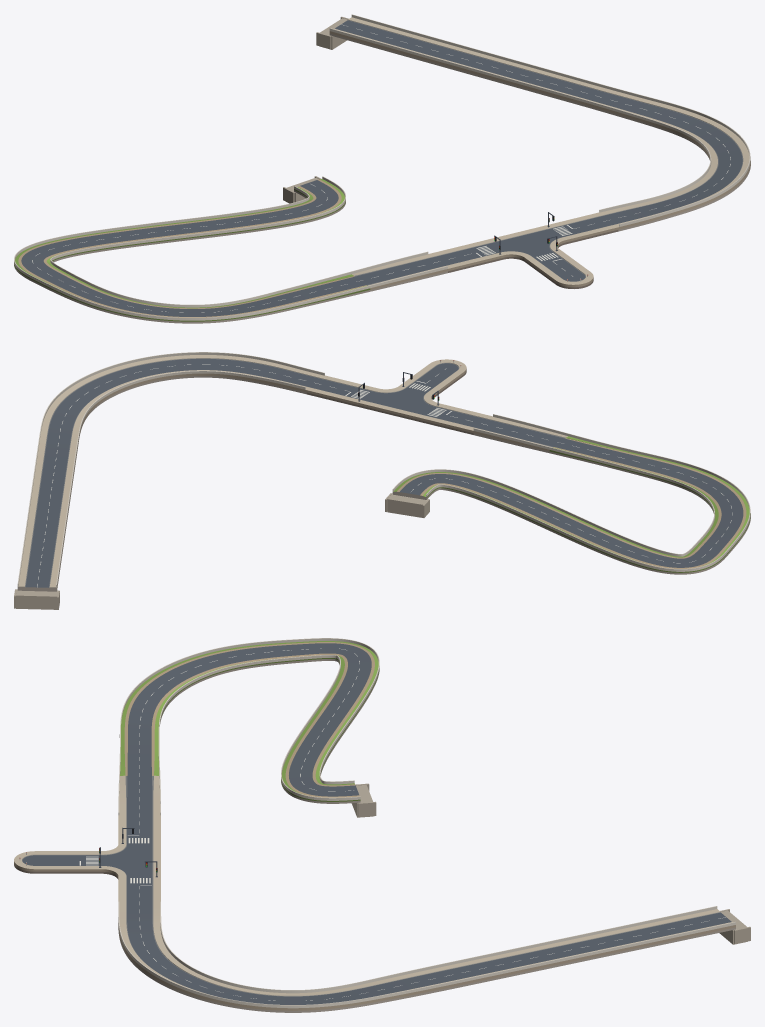
The model's file is rkit_r3_a1_assembly.glb.
3 views of the same model, one above another, from view 1: azimuth 30°, elevation 25°; view 2: azimuth 150°, elevation 25°; view 3: azimuth 270°, elevation 25° (orthographic). The views are drawn at different scales.
Parts seen in each view (by area): view 1: RKIT_route_M+J, RKIT_route_M, RKIT_parapet_M+J, RKIT_parapet_M, RKIT_junction_J_plate, RKIT_route_J.arm2; view 2: RKIT_route_M+J, RKIT_route_M, RKIT_parapet_M+J, RKIT_parapet_M, RKIT_junction_J_plate, A1_abutment_otown, A1_abutment_pyramide, RKIT_route_J.arm2, RKIT_kerb_J_kerb_arm1_arm0; view 3: RKIT_route_M+J, RKIT_route_M, RKIT_parapet_M, RKIT_parapet_M+J, RKIT_junction_J_plate, RKIT_route_J.arm2.
Boxes of the visible parts, bbox=[...] form: RKIT_route_M+J: bbox=[14, 179, 485, 323]; RKIT_route_M: bbox=[329, 17, 750, 239]; RKIT_parapet_M+J: bbox=[14, 176, 447, 320]; RKIT_parapet_M: bbox=[329, 14, 750, 226]; RKIT_junction_J_plate: bbox=[470, 225, 578, 263]; RKIT_route_J.arm2: bbox=[535, 257, 590, 284]; RKIT_route_M+J: bbox=[392, 407, 750, 574]; RKIT_route_M: bbox=[17, 355, 359, 591]; RKIT_parapet_M+J: bbox=[392, 414, 750, 571]; RKIT_parapet_M: bbox=[17, 352, 324, 587]; RKIT_junction_J_plate: bbox=[346, 381, 451, 419]; A1_abutment_otown: bbox=[14, 589, 59, 609]; A1_abutment_pyramide: bbox=[385, 493, 429, 517]; RKIT_route_J.arm2: bbox=[409, 363, 463, 390]; RKIT_kerb_J_kerb_arm1_arm0: bbox=[341, 396, 439, 425]; RKIT_route_M+J: bbox=[118, 641, 379, 835]; RKIT_route_M: bbox=[118, 885, 735, 1012]; RKIT_parapet_M: bbox=[118, 901, 735, 1008]; RKIT_parapet_M+J: bbox=[118, 638, 379, 815]; RKIT_junction_J_plate: bbox=[79, 835, 152, 885]; RKIT_route_J.arm2: bbox=[35, 851, 79, 873].
Bounding box in the file's own units: 267 × 15 × 233.
